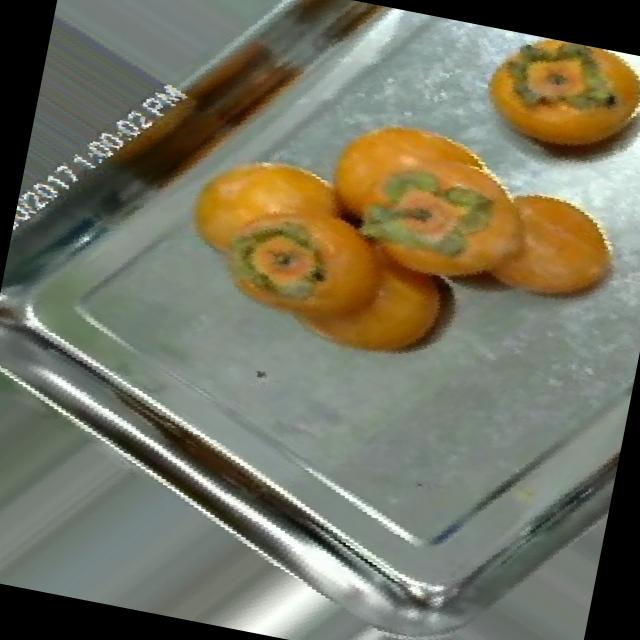Fruit: (290, 84, 534, 278), (435, 150, 640, 336), (450, 24, 640, 196)
